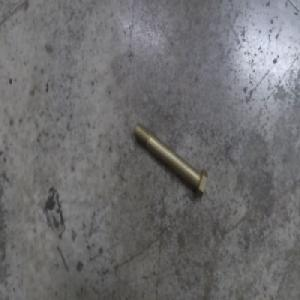Bolt: (133, 120, 208, 200)
